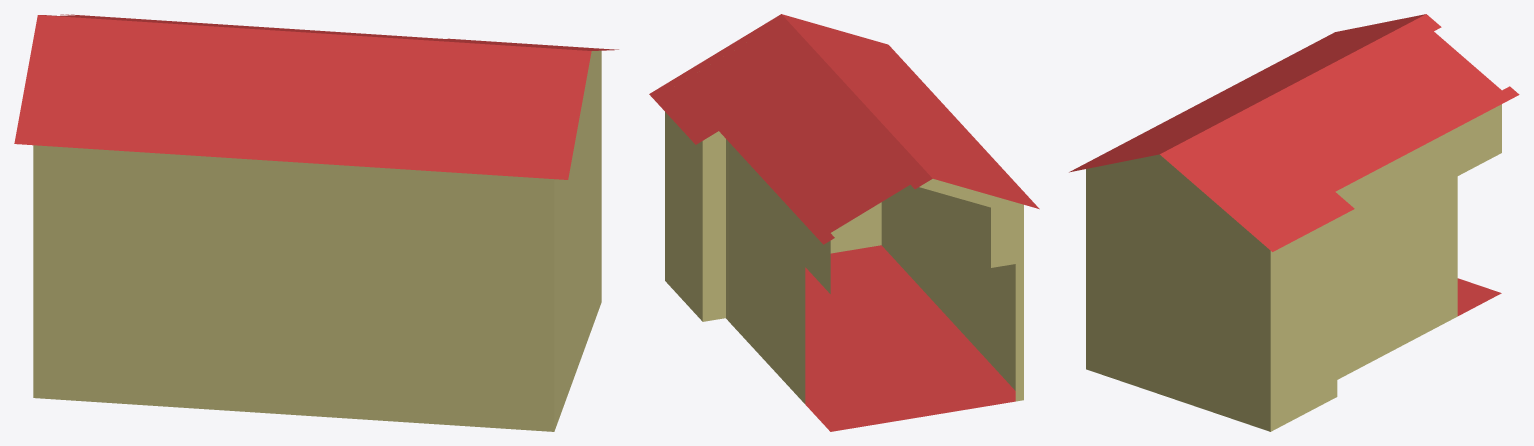
3 views of the same model, side by side, from view 1: azimuth 30°, elevation 25°; view 2: azimuth 150°, elevation 25°; view 3: azimuth 270°, elevation 25° (orthographic). The views are drawn at different scales.
Size of the model in its own units: 19.73 by 17.95 by 10.83.
